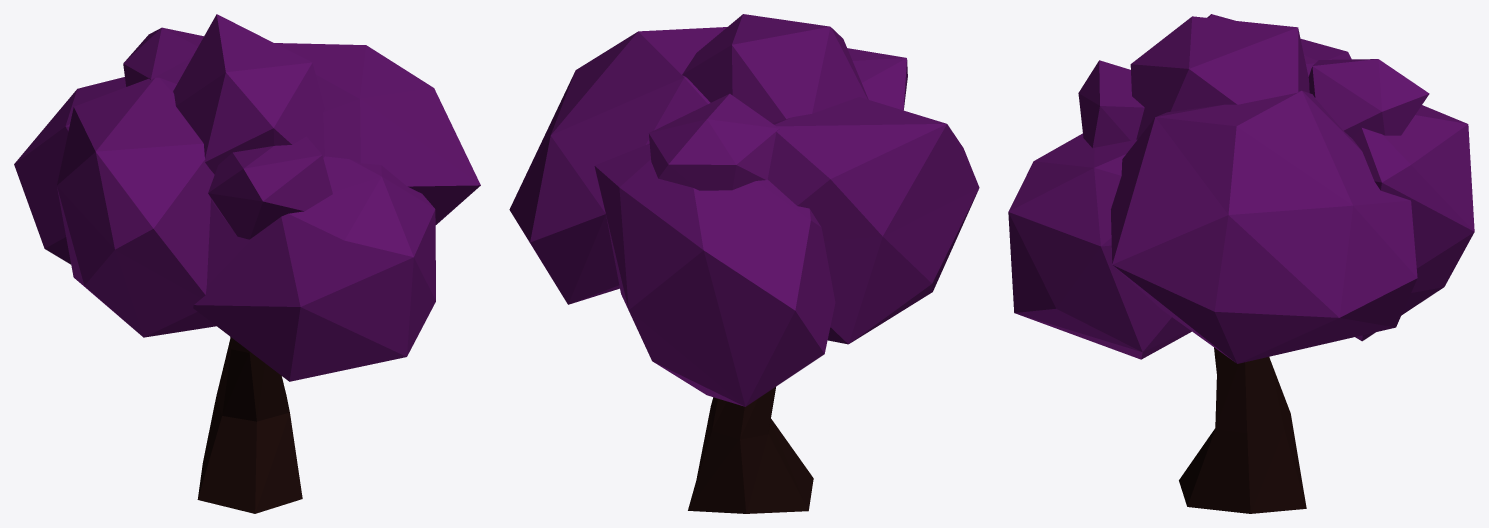
File: M_G_PollutionTree.FBX
3 views of the same model, side by side, from view 1: azimuth 30°, elevation 25°; view 2: azimuth 150°, elevation 25°; view 3: azimuth 270°, elevation 25° (orthographic). The views are drawn at different scales.
Parts seen in each view (by area): view 1: GeoSphere061, GeoSphere055, GeoSphere056, GeoSphere058, Cylinder013, GeoSphere060, GeoSphere057, GeoSphere059; view 2: GeoSphere057, GeoSphere055, GeoSphere056, GeoSphere058, Cylinder013, GeoSphere059, GeoSphere060; view 3: GeoSphere056, GeoSphere061, Cylinder013, GeoSphere058, GeoSphere057, GeoSphere059, GeoSphere060, GeoSphere055.
Part boxes in pixels (x1,y1,x2,y2): GeoSphere061: [193, 156, 435, 381]; GeoSphere055: [57, 77, 216, 337]; GeoSphere056: [274, 43, 480, 224]; GeoSphere058: [173, 14, 324, 174]; Cylinder013: [197, 337, 302, 513]; GeoSphere060: [208, 136, 332, 239]; GeoSphere057: [14, 77, 126, 264]; GeoSphere059: [123, 27, 203, 86]; GeoSphere057: [594, 143, 835, 406]; GeoSphere055: [767, 97, 979, 344]; GeoSphere056: [509, 27, 726, 304]; GeoSphere058: [682, 14, 868, 122]; Cylinder013: [688, 387, 813, 513]; GeoSphere059: [648, 93, 779, 190]; GeoSphere060: [847, 48, 907, 110]; GeoSphere056: [1111, 90, 1417, 363]; GeoSphere061: [1008, 133, 1191, 359]; Cylinder013: [1179, 347, 1306, 513]; GeoSphere058: [1130, 16, 1309, 139]; GeoSphere057: [1353, 105, 1474, 341]; GeoSphere059: [1308, 59, 1429, 138]; GeoSphere060: [1078, 60, 1144, 148]; GeoSphere055: [1207, 14, 1351, 76].
Size of the model in its own units: 547 by 642 by 583.
